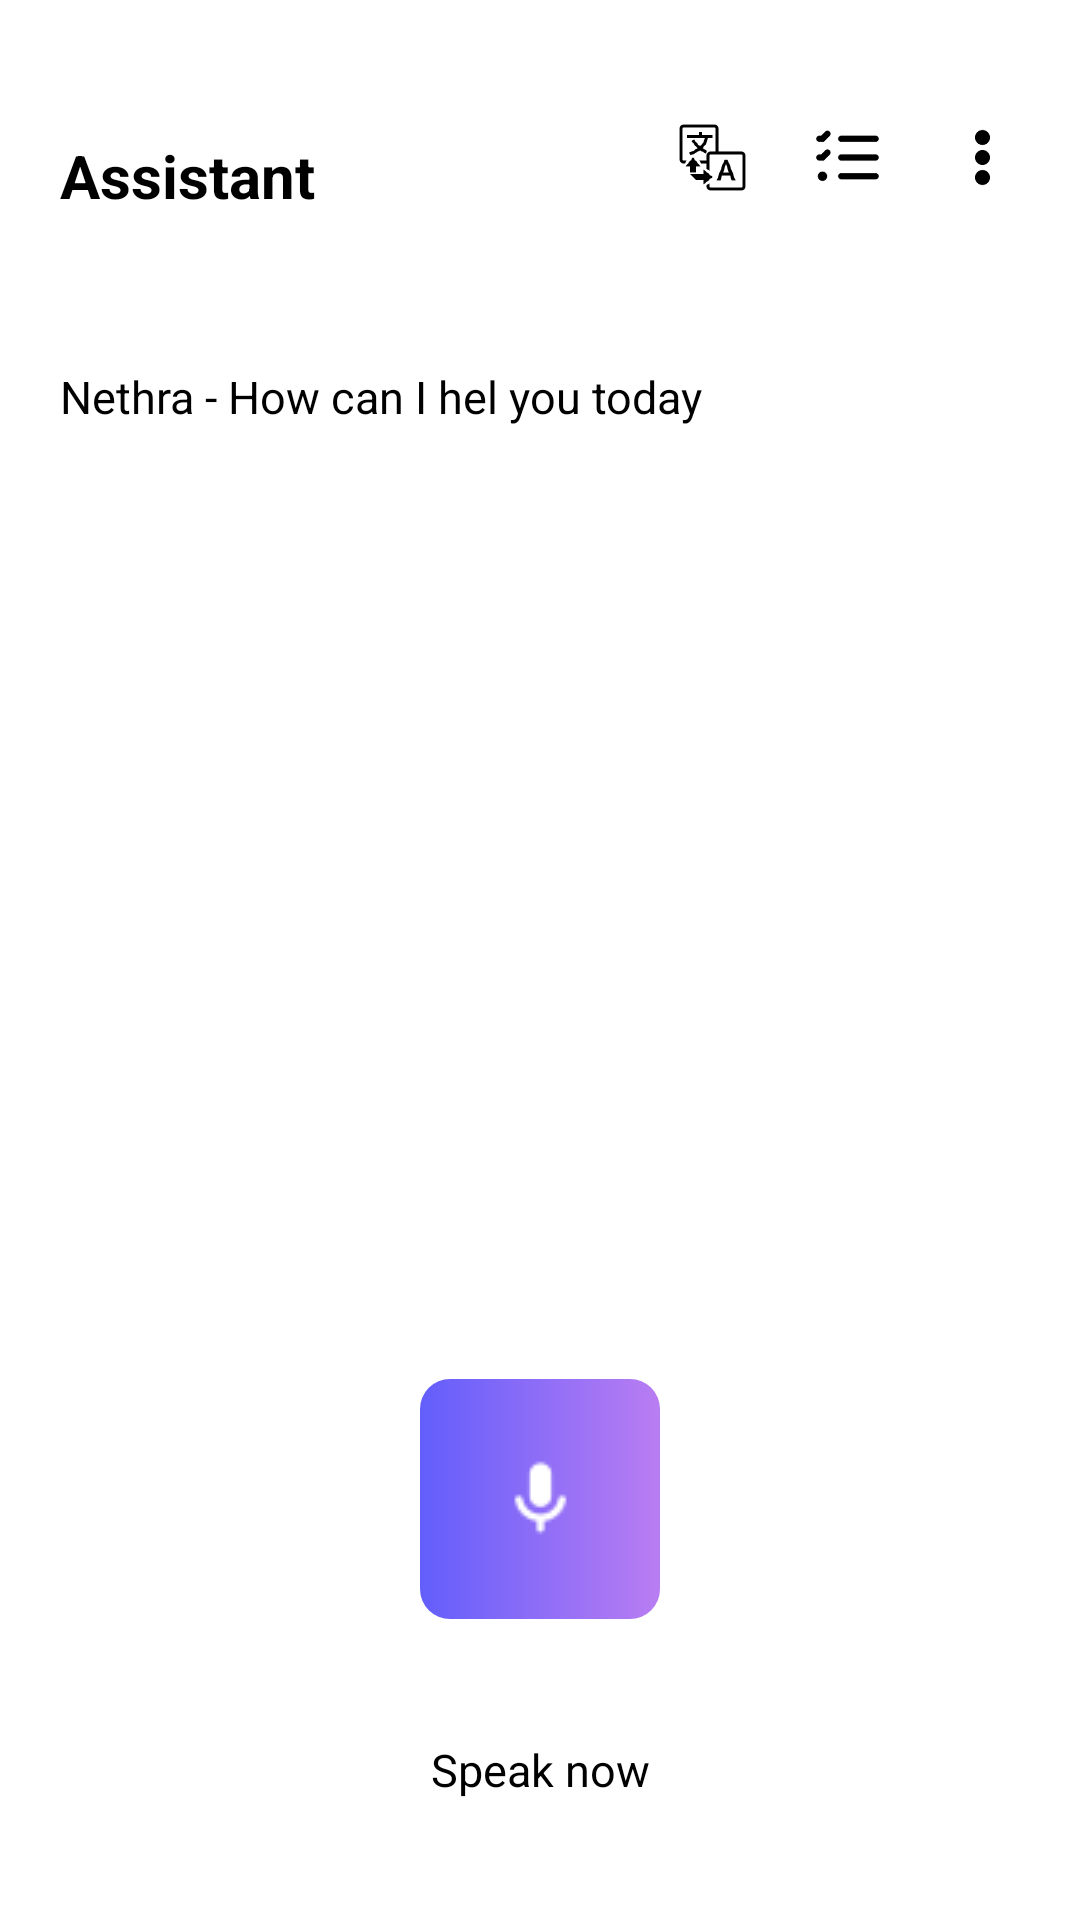

Point at icon controls on the screen. Image size 1080*1920, points as (x,y).
menu: (982,157)
microphone: (540,1499)
to do list: (847,155)
translate: (712,157)
